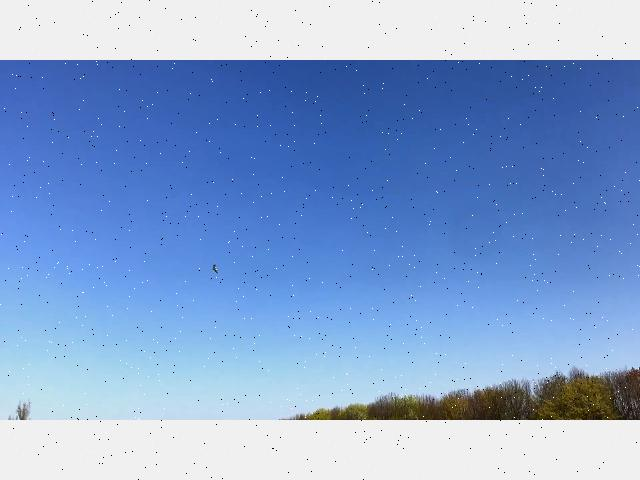Anti-Drone: (201, 260, 229, 280)
